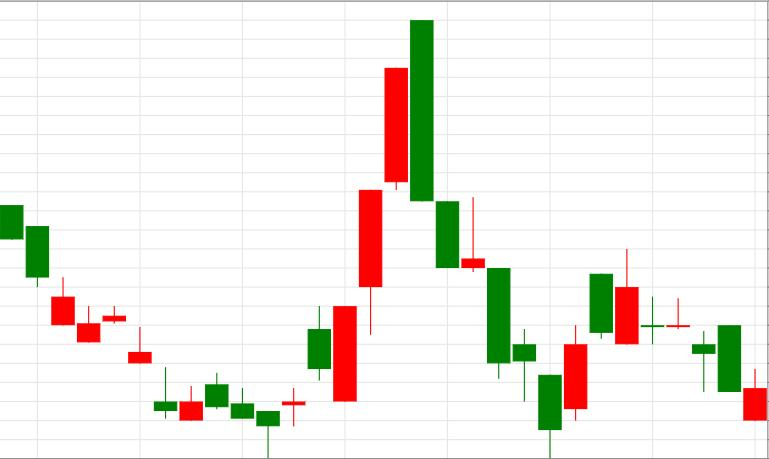bearish_engulfing_fall: (282, 19, 434, 427)
